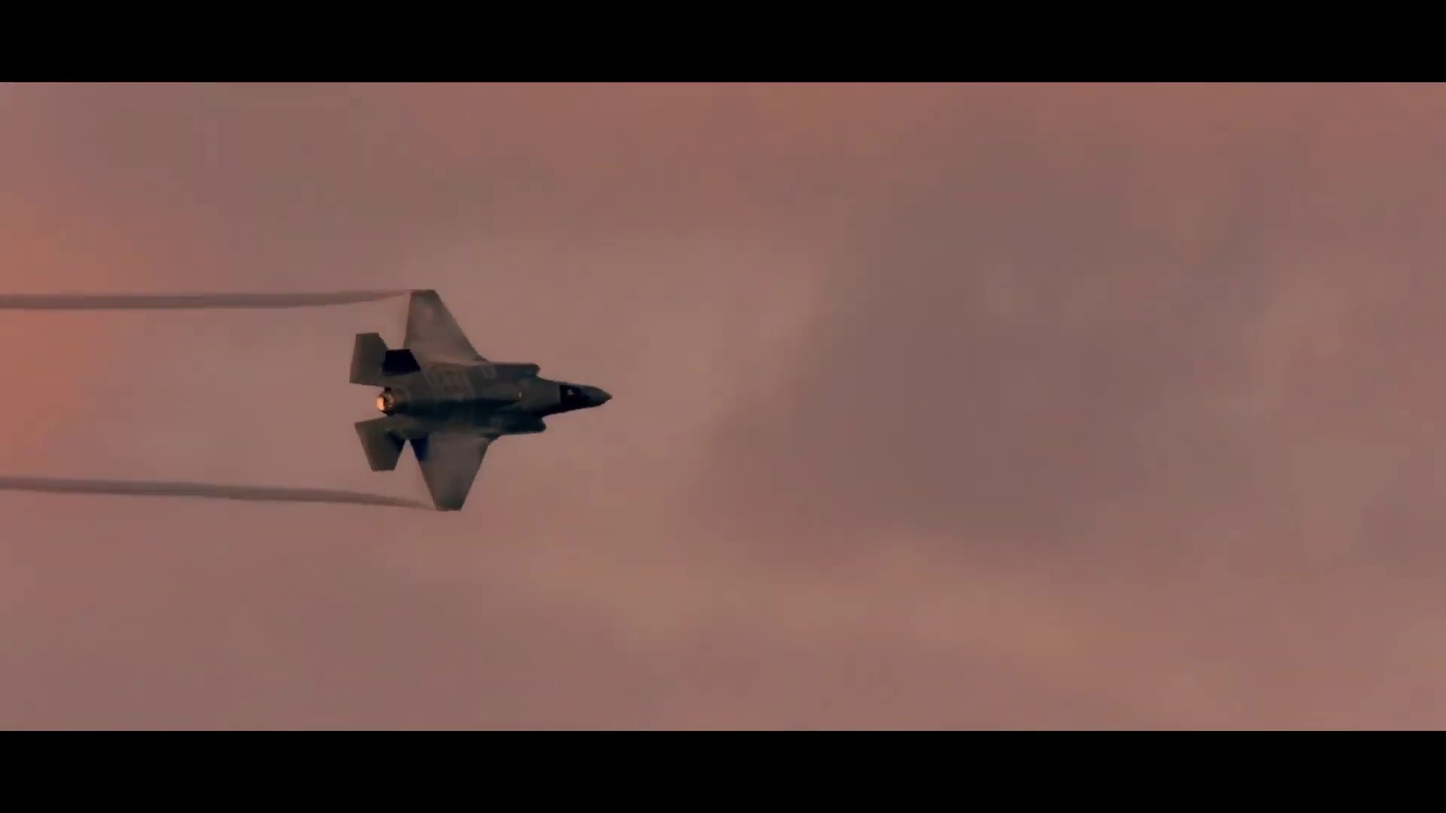F35: (351, 290, 615, 513)
